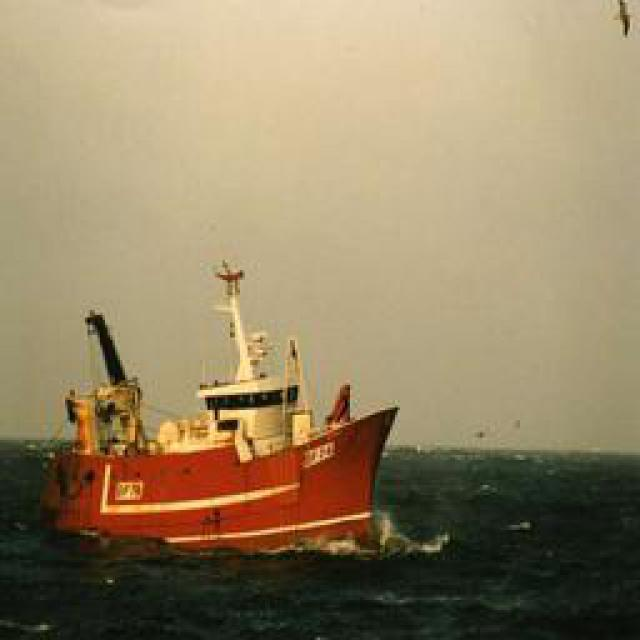Ship: (44, 260, 404, 560)
